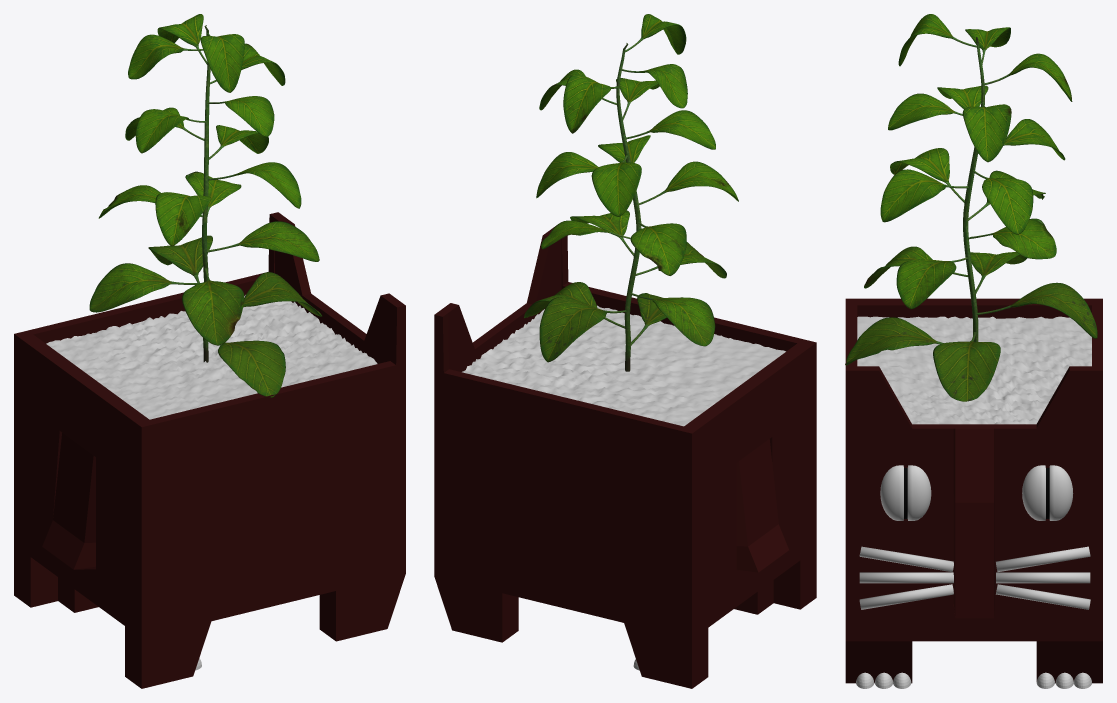
Rendered from Котек1.obj.
3 views of the same model, side by side, from view 1: azimuth 30°, elevation 25°; view 2: azimuth 150°, elevation 25°; view 3: azimuth 270°, elevation 25° (orthographic). The views are drawn at different scales.
Parts seen in each view (by area): view 1: тело_Cube.002, stem_Circle.001, земля_Plane.003; view 2: тело_Cube.002, stem_Circle.001, земля_Plane.003; view 3: тело_Cube.002, stem_Circle.001, земля_Plane.003, усы_Cylinder.001, глаза_Sphere.
Boxes of the visible parts, bbox=[...] form: тело_Cube.002: bbox=[14, 212, 405, 688]; stem_Circle.001: bbox=[89, 14, 321, 397]; земля_Plane.003: bbox=[46, 295, 377, 419]; тело_Cube.002: bbox=[434, 225, 816, 688]; stem_Circle.001: bbox=[524, 14, 738, 371]; земля_Plane.003: bbox=[462, 305, 785, 426]; тело_Cube.002: bbox=[845, 298, 1102, 688]; stem_Circle.001: bbox=[845, 14, 1097, 401]; земля_Plane.003: bbox=[857, 316, 1091, 424]; усы_Cylinder.001: bbox=[859, 546, 1090, 609]; глаза_Sphere: bbox=[880, 465, 1073, 520].
Size of the model in its own units: 14.63 by 26.27 by 10.25.
